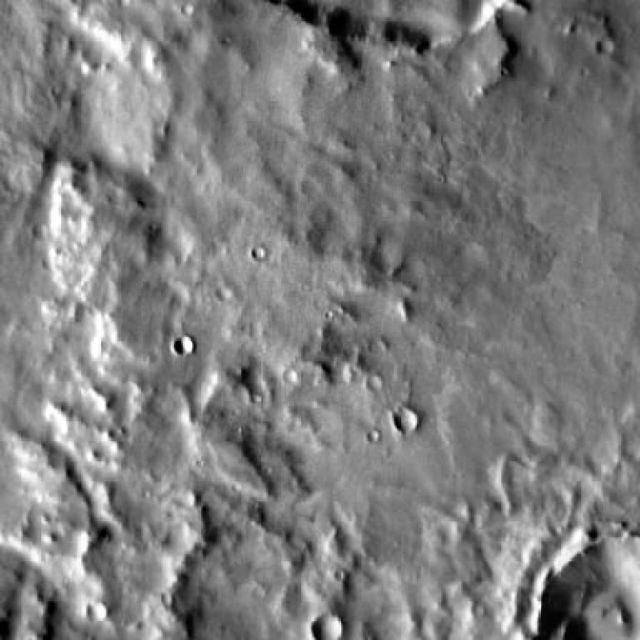crater: (554, 544, 640, 640), (316, 618, 346, 640), (399, 409, 423, 433), (177, 332, 197, 352), (83, 599, 103, 619), (598, 39, 614, 55)
